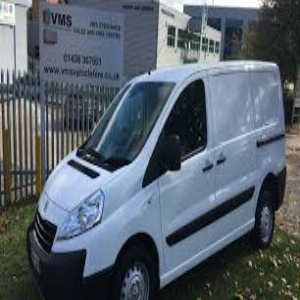door_scratch: (163, 166, 253, 222)
